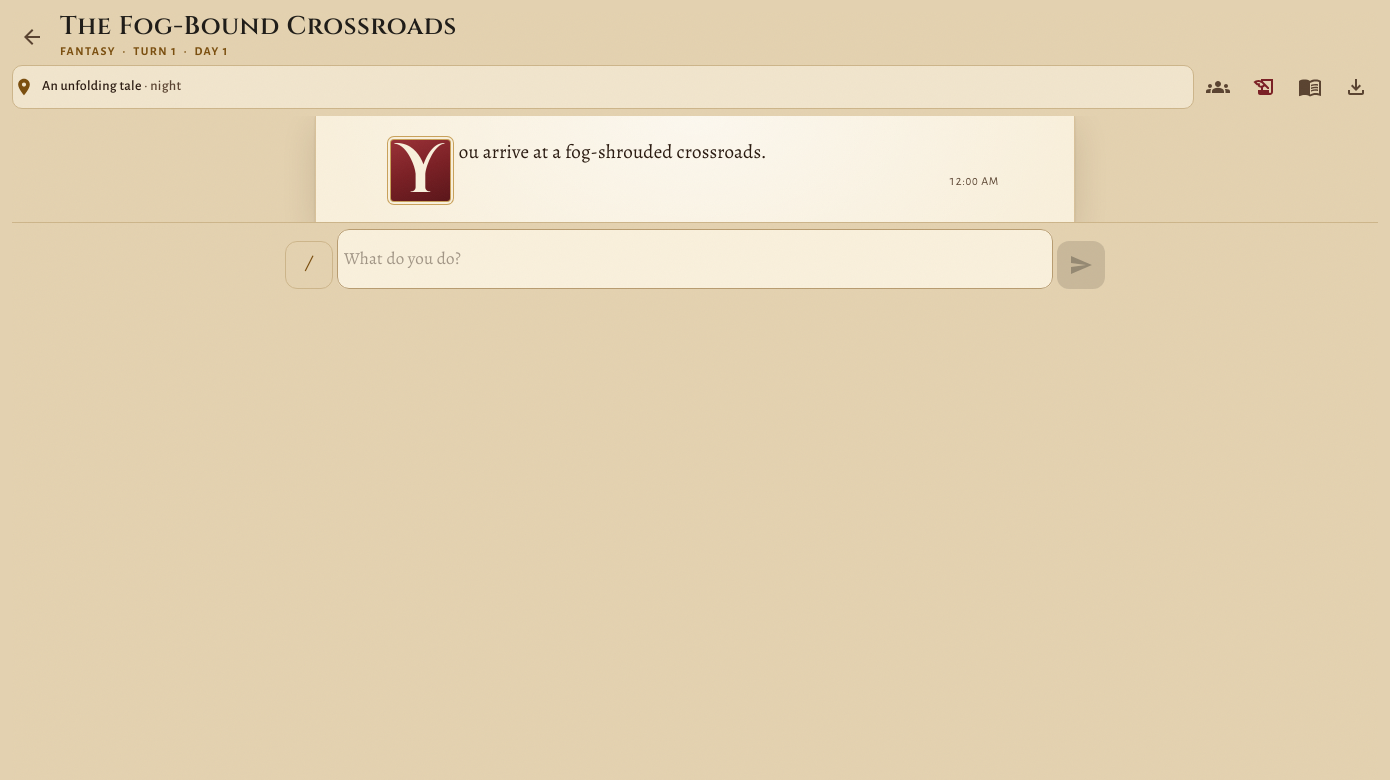
Test: StoryPlay — a failed turn › shows the server's own message, not a generic failure
Type "I step into the mist" into the text box with placeholder "What do you do?" at (695,259), box [344, 234, 1046, 284]
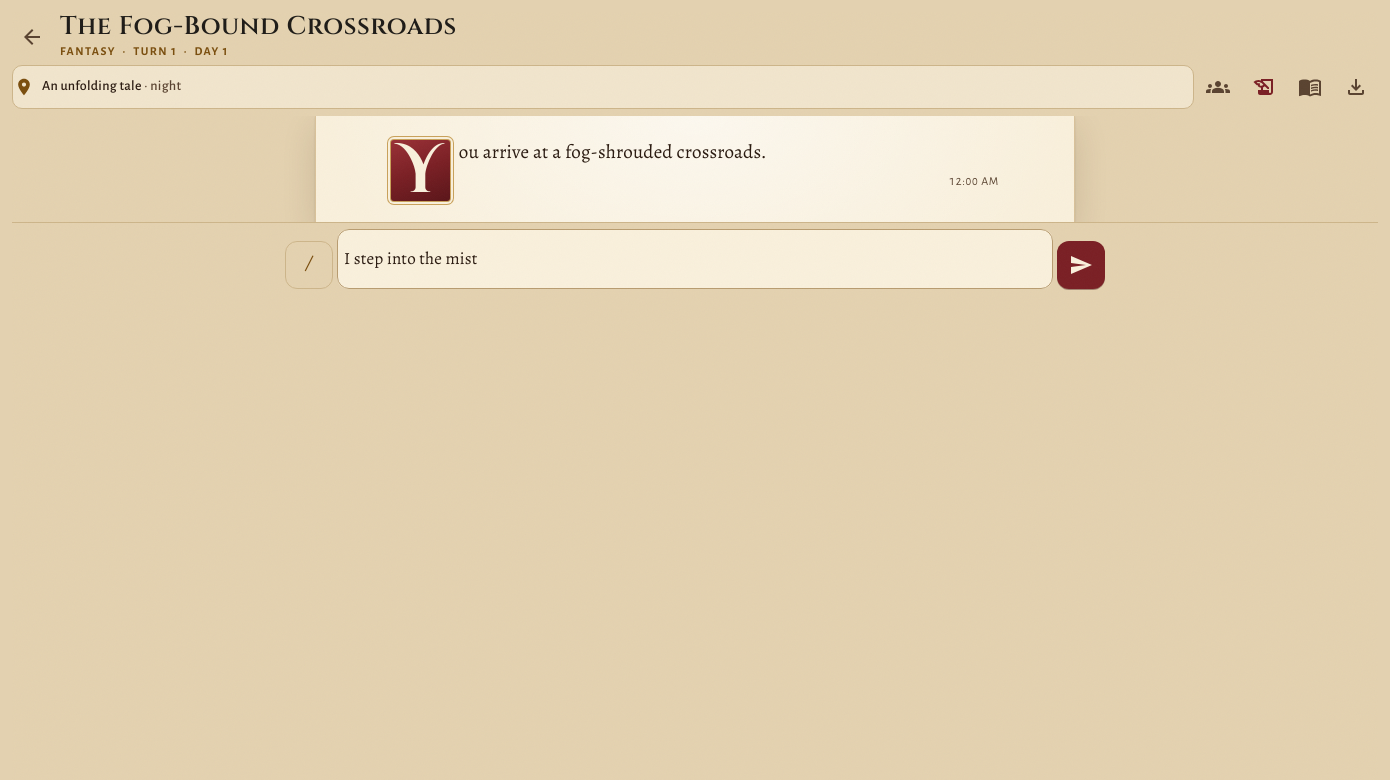
Submit the form with placeholder "What do you do?", box [285, 229, 1105, 289]
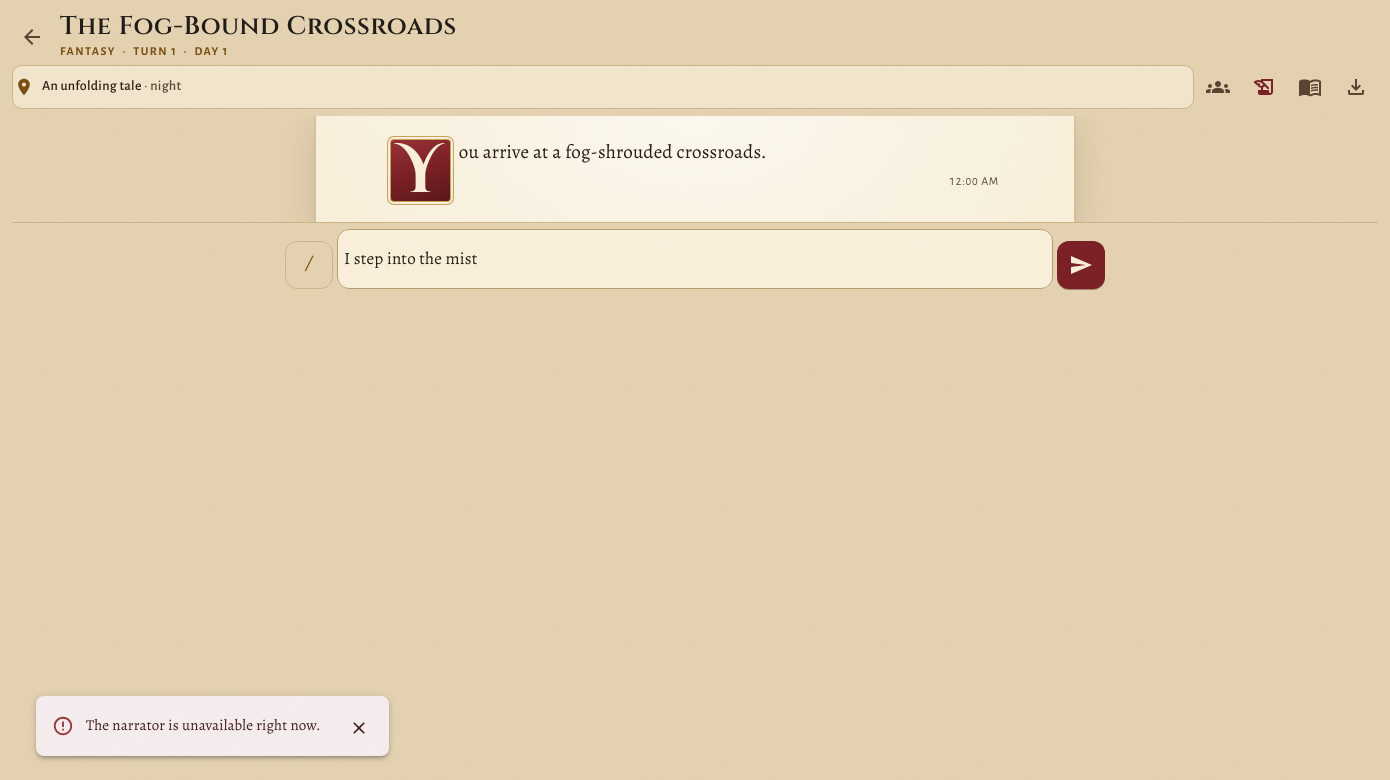
expect the text "The narrator is unavailable right now." is shown: met, box [86, 715, 321, 735]
